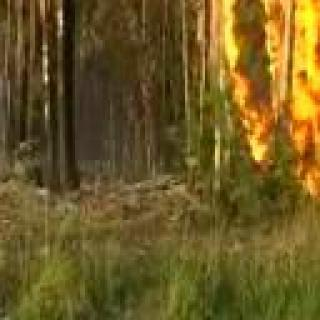fire: (186, 0, 320, 155), (296, 164, 320, 242)
